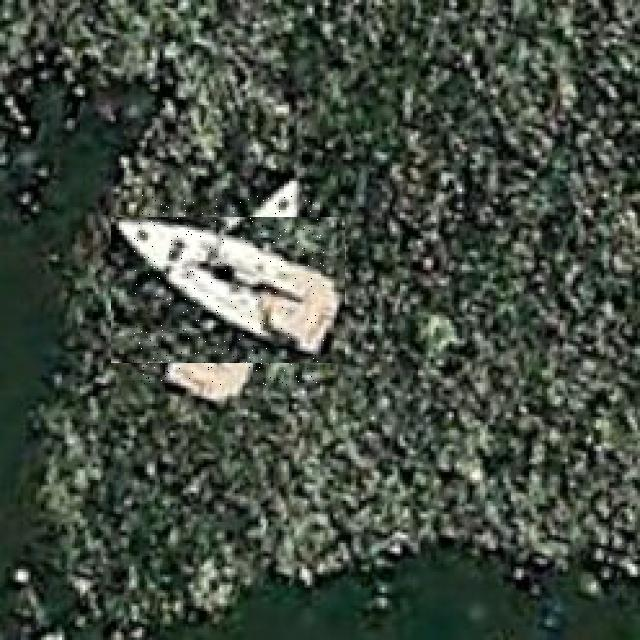boat: (133, 195, 324, 385)
